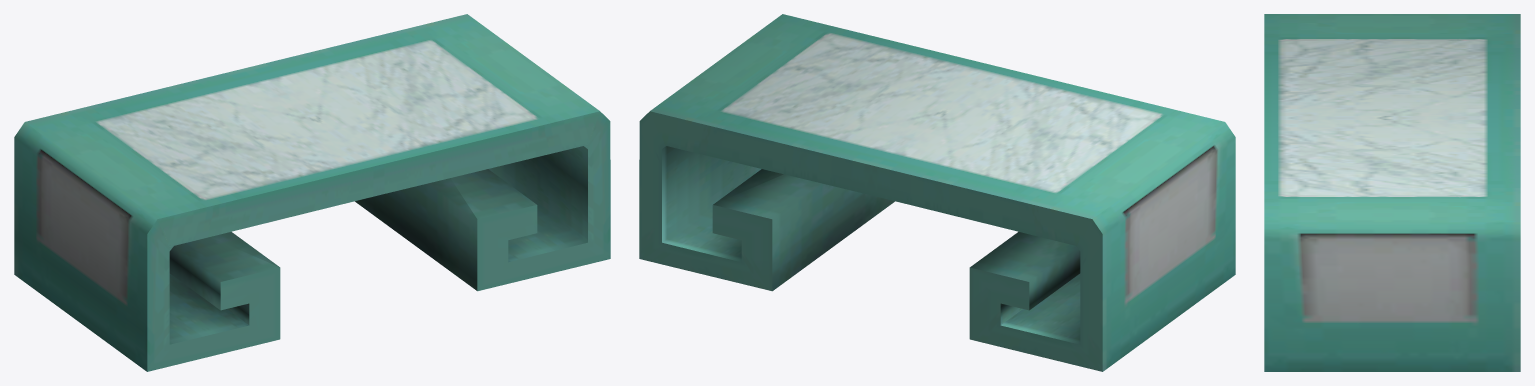
File: furni_0200504_02.FBX
3 renders of one model, left to right at view 1: azimuth 30°, elevation 25°; view 2: azimuth 150°, elevation 25°; view 3: azimuth 270°, elevation 25°, orthographic. The views are drawn at different scales.
Parts seen in each view (by area): view 1: furni_0200504_02; view 2: furni_0200504_02; view 3: furni_0200504_02.
Part boxes in pixels (bbox=[...]): furni_0200504_02: bbox=[14, 14, 610, 371]; furni_0200504_02: bbox=[639, 14, 1235, 371]; furni_0200504_02: bbox=[1264, 14, 1520, 371].
Bounding box in the file's own units: 160 × 49.56 × 79.39.
Materials: 1 (1 with a texture image).
